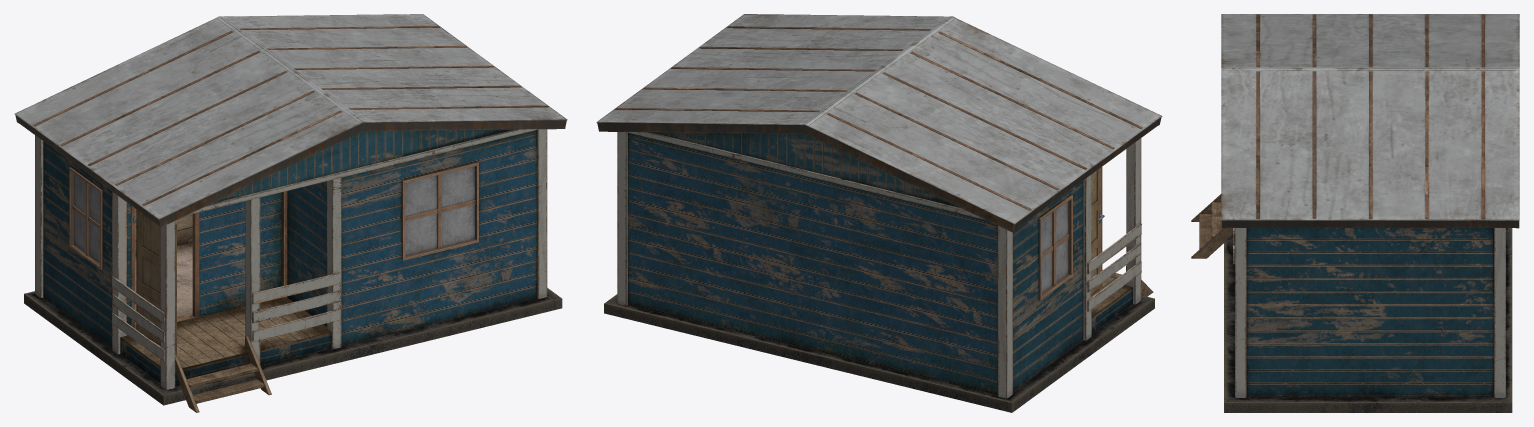
The model's file is oldman-hut.fbx.
The picture shows the model from 3 angles, left to right: view 1: azimuth 30°, elevation 25°; view 2: azimuth 150°, elevation 25°; view 3: azimuth 270°, elevation 25°; orthographic projection. The views are drawn at different scales.
Visible parts, largest first — view 1: Main, Door; view 2: Main, Door; view 3: Main.
Boxes of the visible parts, bbox=[...] form: Main: bbox=[14, 14, 567, 412]; Door: bbox=[136, 209, 176, 354]; Main: bbox=[596, 14, 1162, 412]; Door: bbox=[1091, 167, 1102, 295]; Main: bbox=[1191, 14, 1519, 412].
Bounding box in the file's own units: 644 × 355 × 434.
